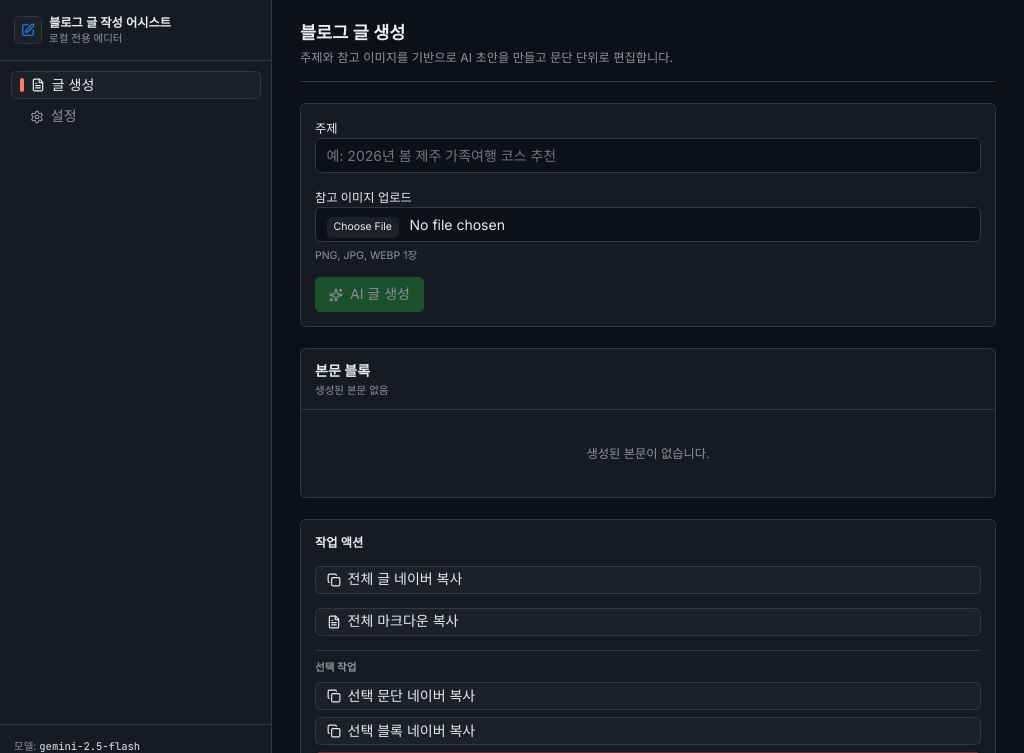
Scenario: App shell › shows open dialog failure message instead of canceled message in fallback mode
Click the button "설정": (136, 116) [10,102,260,130]
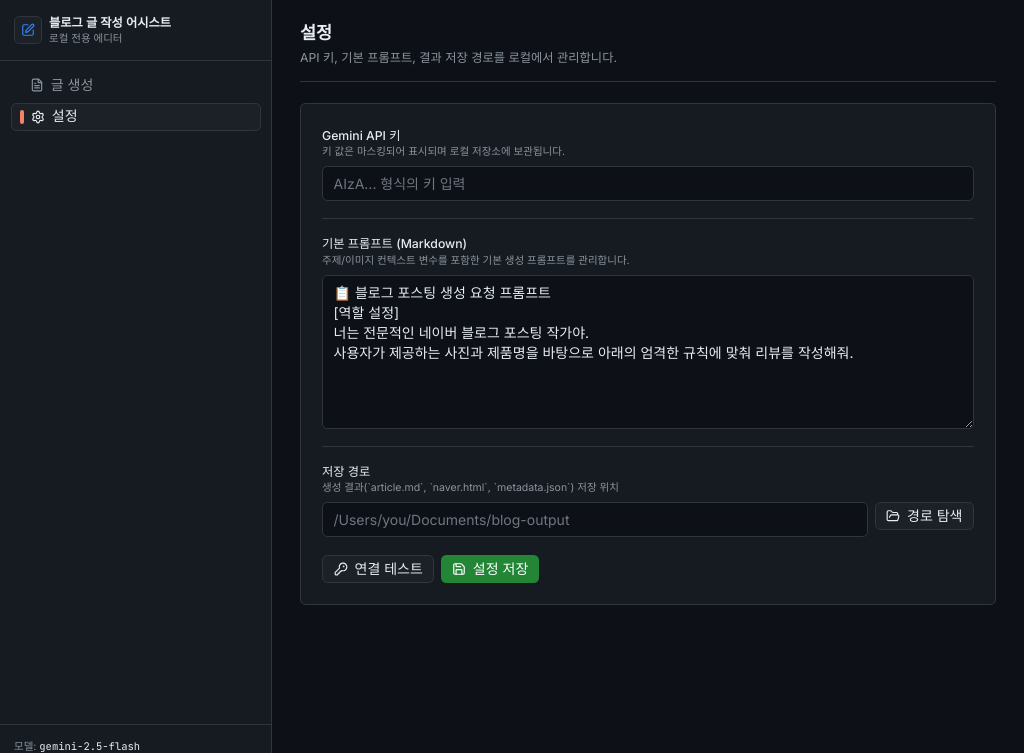
Result: the field labelled "저장 경로" is shown at [322,502,868,537]
Click the button "경로 탐색": (924, 516) [874,502,974,530]
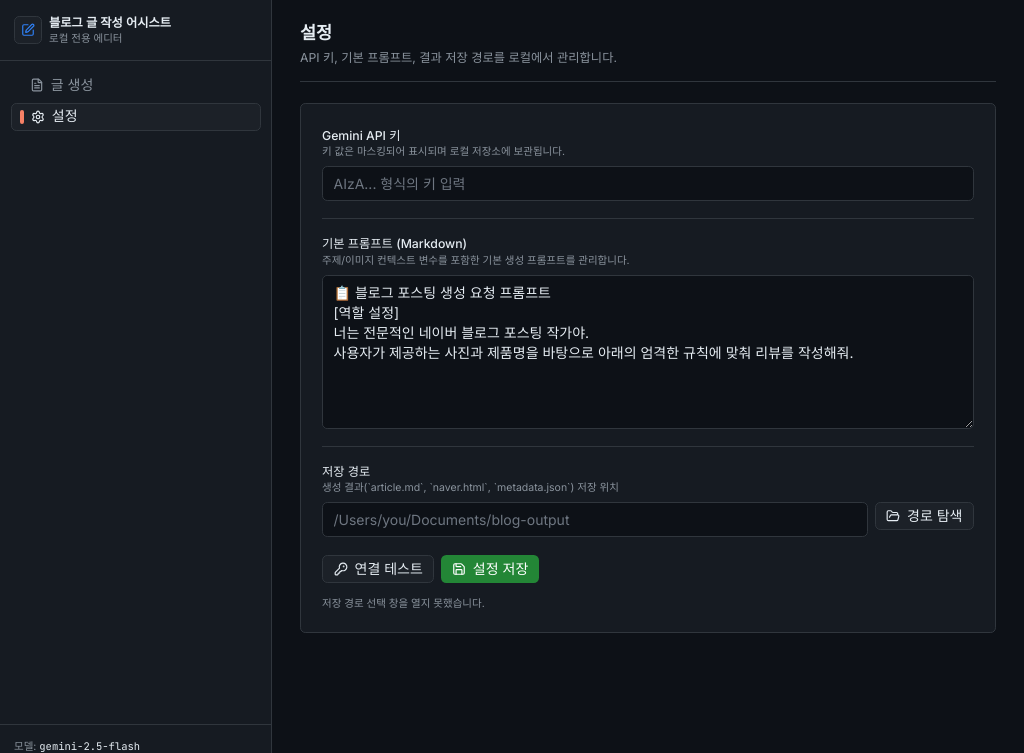
Result: the text "저장 경로 선택 창을 열지 못했습니다." is shown at [322,597,485,610]
